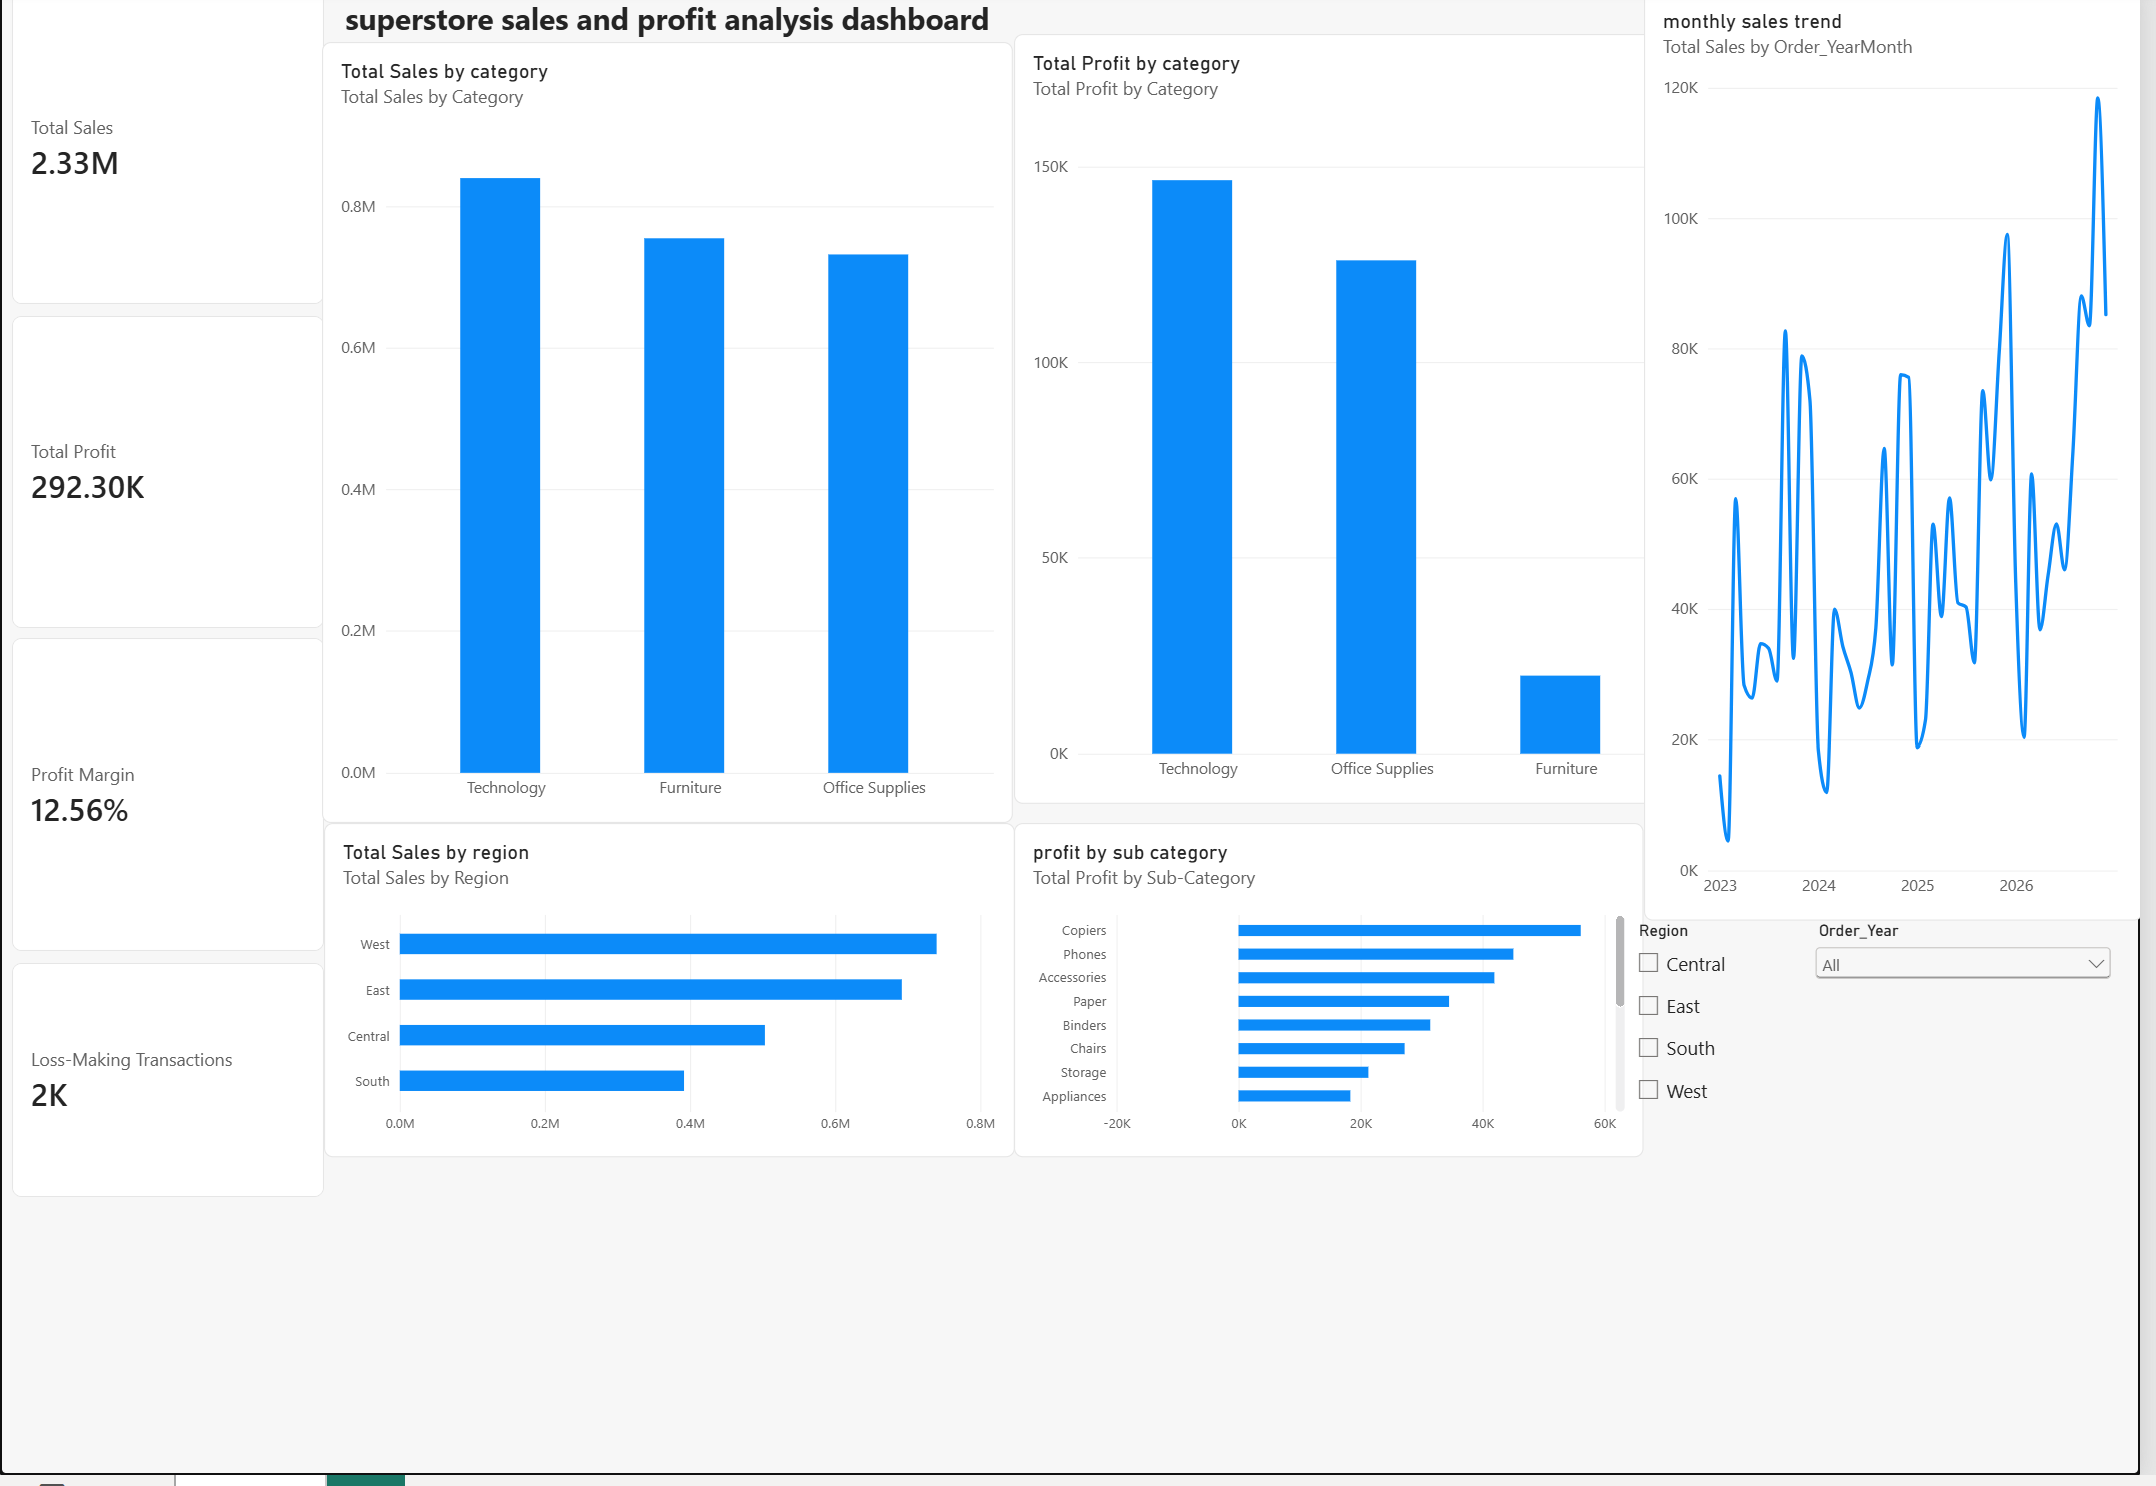

This screenshot's page, from the dashboard's own definition file:
{"tool":"powerbi","page":{"name":"Page 1","canvas":[1920,1330],"ordinal":0},"visuals":[{"type":"cardVisual","fields":{"Data":["superstore_clean.Total Sales"]},"box":[10,0,280,280],"z":0},{"type":"cardVisual","fields":{"Data":["superstore_clean.Total Profit"]},"box":[10,290,280,280],"z":1000},{"type":"cardVisual","fields":{"Data":["superstore_clean.Profit Margin"]},"box":[10,580,280,280],"z":2000},{"type":"cardVisual","fields":{"Data":["superstore_clean.Loss-Making Transactions"]},"box":[10,870,280,210],"z":3000},{"type":"clusteredColumnChart","title":"Total Sales by category","fields":{"Category":["superstore_clean.Category"],"Y":["superstore_clean.Total Sales"]},"box":[289.3,45,620,700],"z":4000},{"type":"clusteredColumnChart","title":"Total Profit by category","fields":{"Category":["superstore_clean.Category"],"Y":["superstore_clean.Total Profit"]},"box":[909.8,37.3,620,690],"z":5000},{"type":"lineChart","title":"monthly sales trend","fields":{"Category":["superstore_clean.Order_YearMonth"],"Y":["superstore_clean.Total Sales"]},"box":[1475,0,447.5,832.5],"z":6000},{"type":"clusteredBarChart","title":"Total Sales by region","fields":{"Category":["superstore_clean.Region"],"Y":["superstore_clean.Total Sales"]},"box":[290,745,620,300],"z":7000},{"type":"clusteredBarChart","title":"profit by sub category","fields":{"Category":["superstore_clean.Sub-Category"],"Y":["superstore_clean.Total Profit"]},"box":[910,745,565,300],"z":8000},{"type":"slicer","fields":{"Values":["superstore_clean.Region"]},"box":[1462.5,832.5,300,247.5],"z":9000},{"type":"slicer","fields":{"Values":["superstore_clean.Order_Year"]},"box":[1625,832.5,275,250],"z":10000},{"type":"textbox","box":[300,5,630,40],"z":10001}]}

Visuals, with their boxes in screenshot pixels (x1, y1, x2, y2), scaled from the page's 1920x1330 canvas onto the 2156x1486 screenshot:
cardVisual - superstore_clean.Total Sales: 11:0:326:313
cardVisual - superstore_clean.Total Profit: 11:324:326:637
cardVisual - superstore_clean.Profit Margin: 11:648:326:961
cardVisual - superstore_clean.Loss-Making Transactions: 11:972:326:1207
"Total Sales by category" clusteredColumnChart: 325:50:1021:832
"Total Profit by category" clusteredColumnChart: 1022:42:1718:813
"monthly sales trend" lineChart: 1656:0:2155:930
"Total Sales by region" clusteredBarChart: 326:832:1022:1168
"profit by sub category" clusteredBarChart: 1022:832:1656:1168
slicer - superstore_clean.Region: 1642:930:1979:1207
slicer - superstore_clean.Order_Year: 1825:930:2134:1209
textbox: 337:6:1044:50
